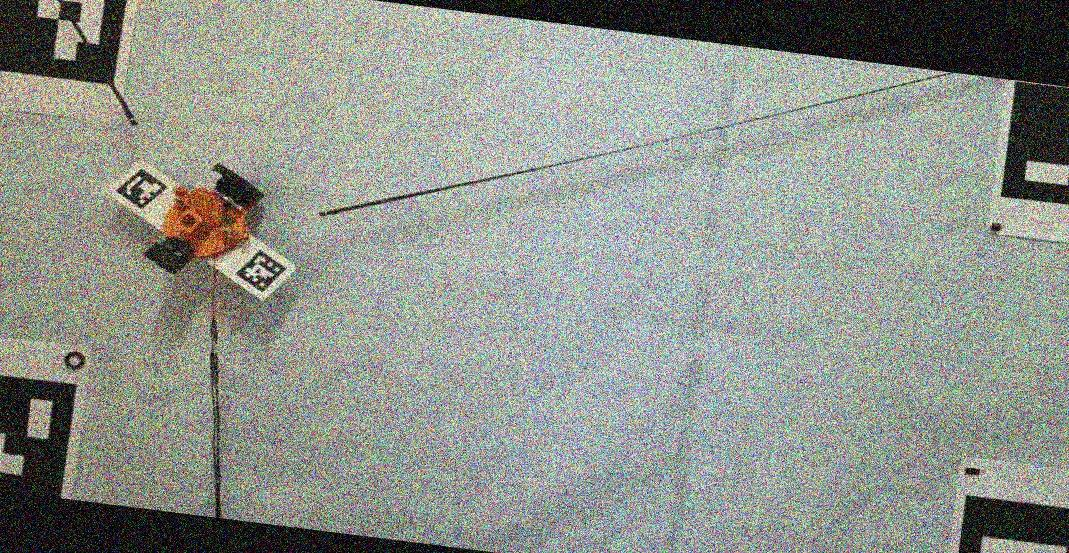robot: (148, 164, 263, 274)
